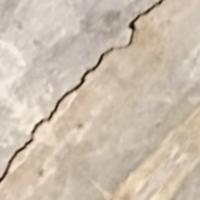crack: (1, 1, 165, 181)
